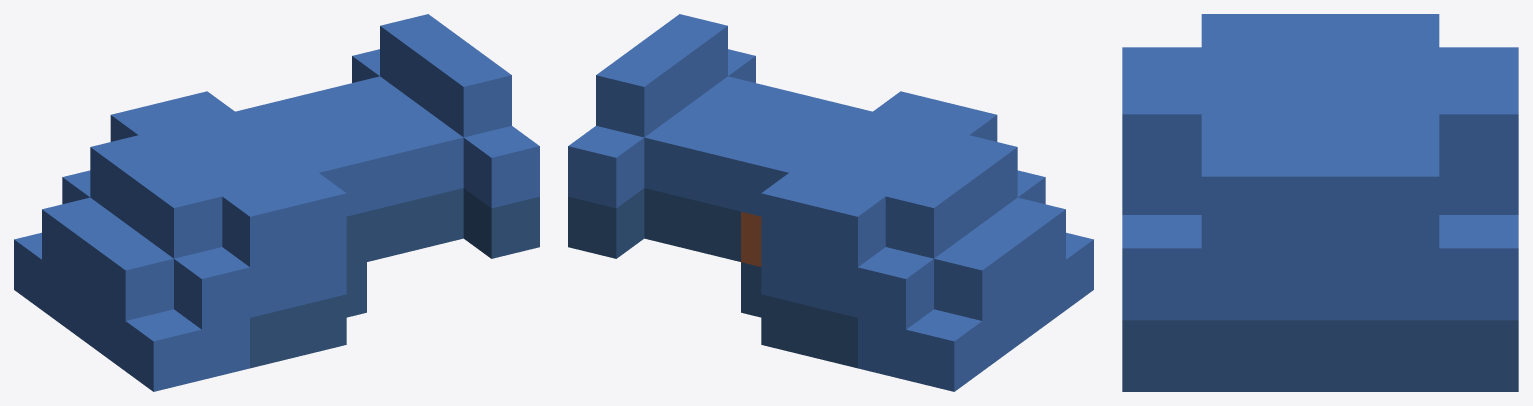
Rendered from MChemistArmUpperL.fbx.
The picture shows the model from 3 angles, left to right: view 1: azimuth 30°, elevation 25°; view 2: azimuth 150°, elevation 25°; view 3: azimuth 270°, elevation 25°; orthographic projection. The views are drawn at different scales.
Visible parts, largest first — view 1: ChemistArms_part_2; view 2: ChemistArms_part_2; view 3: ChemistArms_part_2.
Part boxes in pixels (bbox=[...]): ChemistArms_part_2: bbox=[14, 14, 539, 391]; ChemistArms_part_2: bbox=[568, 14, 1093, 391]; ChemistArms_part_2: bbox=[1122, 14, 1518, 391].
Bounding box in the file's own units: 8 × 4 × 5.
1 material, 1 textured.
